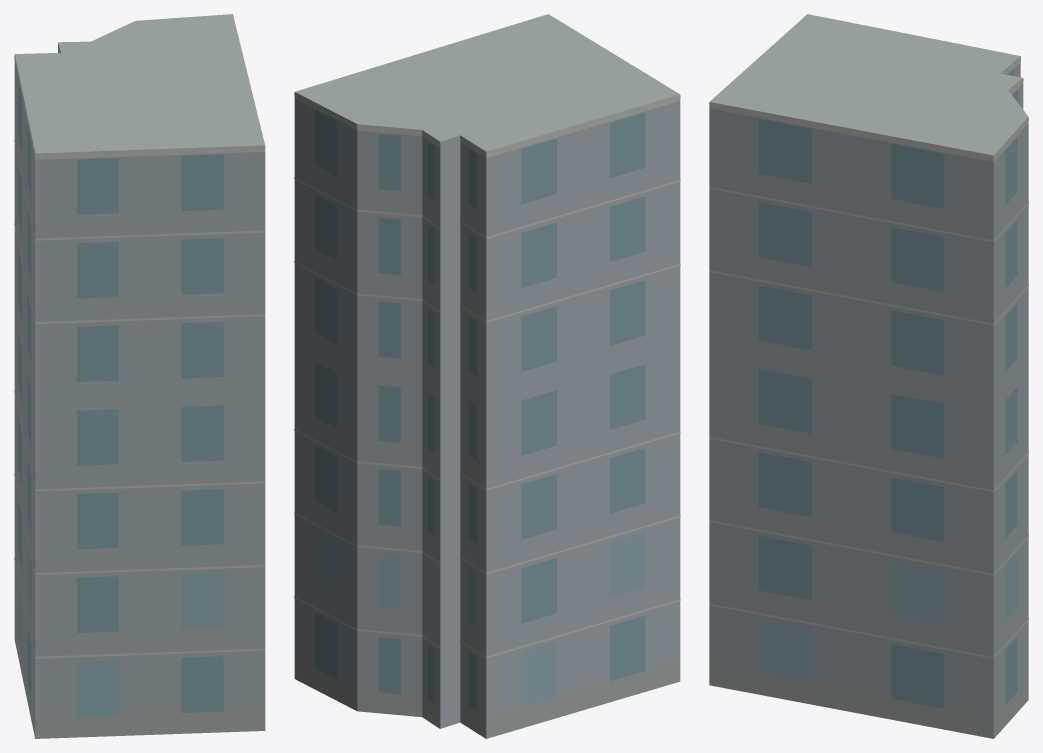
File: survey-upis-32868878.glb
3 renders of one model, left to right at view 1: azimuth 30°, elevation 25°; view 2: azimuth 150°, elevation 25°; view 3: azimuth 270°, elevation 25°, orthographic.
Parts seen in each view (by area): view 1: survey-upis-32868878.tmp; view 2: survey-upis-32868878.tmp; view 3: survey-upis-32868878.tmp.
Boxes of the visible parts, bbox=[...] form: survey-upis-32868878.tmp: bbox=[14, 14, 265, 738]; survey-upis-32868878.tmp: bbox=[294, 14, 680, 738]; survey-upis-32868878.tmp: bbox=[709, 14, 1028, 738].
Size of the model in its own units: 11.52 by 22.1 by 10.98.
